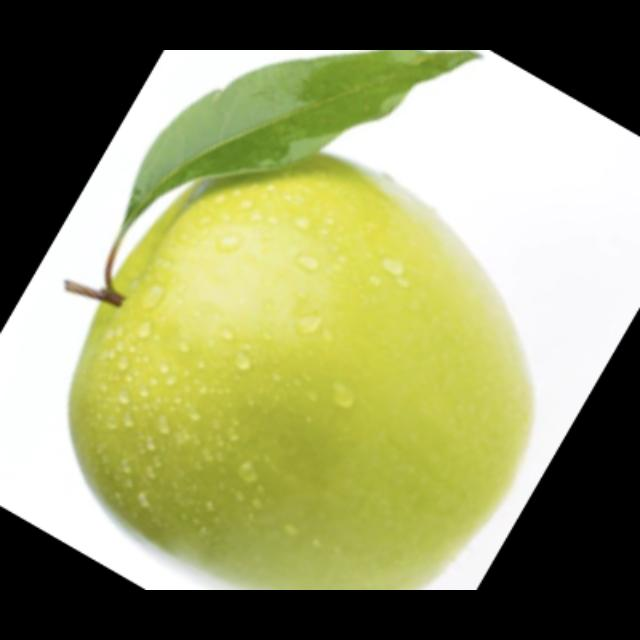Apel Segar: (71, 139, 540, 591)
